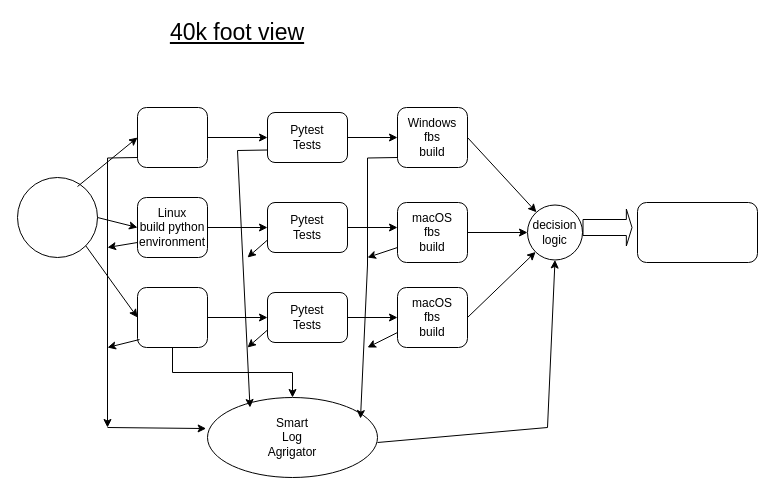
Some shapes in this 775 by 495 pixel diagram are drawn without their labels. Each missing label, with the centre of its shape:
"macOS build python environment" belongs at pixel 172 317.
"release packages to File Server/Github" belongs at pixel 697 232.
"start button" belongs at pixel 57 217.
"Windows build python environment" belongs at pixel 172 137.
